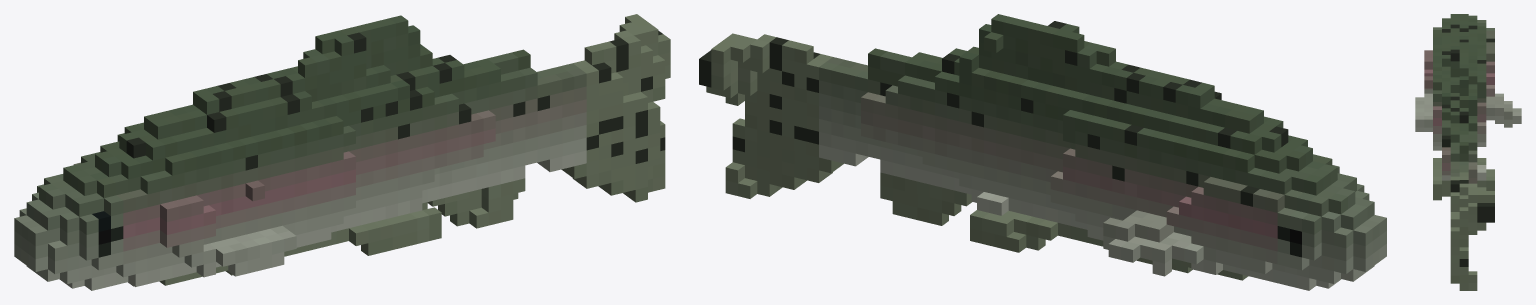
Rendered from colored-voxels.glb.
The picture shows the model from 3 angles, left to right: view 1: azimuth 30°, elevation 25°; view 2: azimuth 150°, elevation 25°; view 3: azimuth 270°, elevation 25°; orthographic projection. The views are drawn at different scales.
Visible parts, largest first — view 1: geometry_0; view 2: geometry_0; view 3: geometry_0.
Boxes of the visible parts, box(x1,y1,x2,y2) form: geometry_0: box(14, 14, 670, 290); geometry_0: box(699, 14, 1386, 290); geometry_0: box(1415, 14, 1521, 290).
Bounding box in the file's own units: 0.6625 × 0.225 × 0.15.
